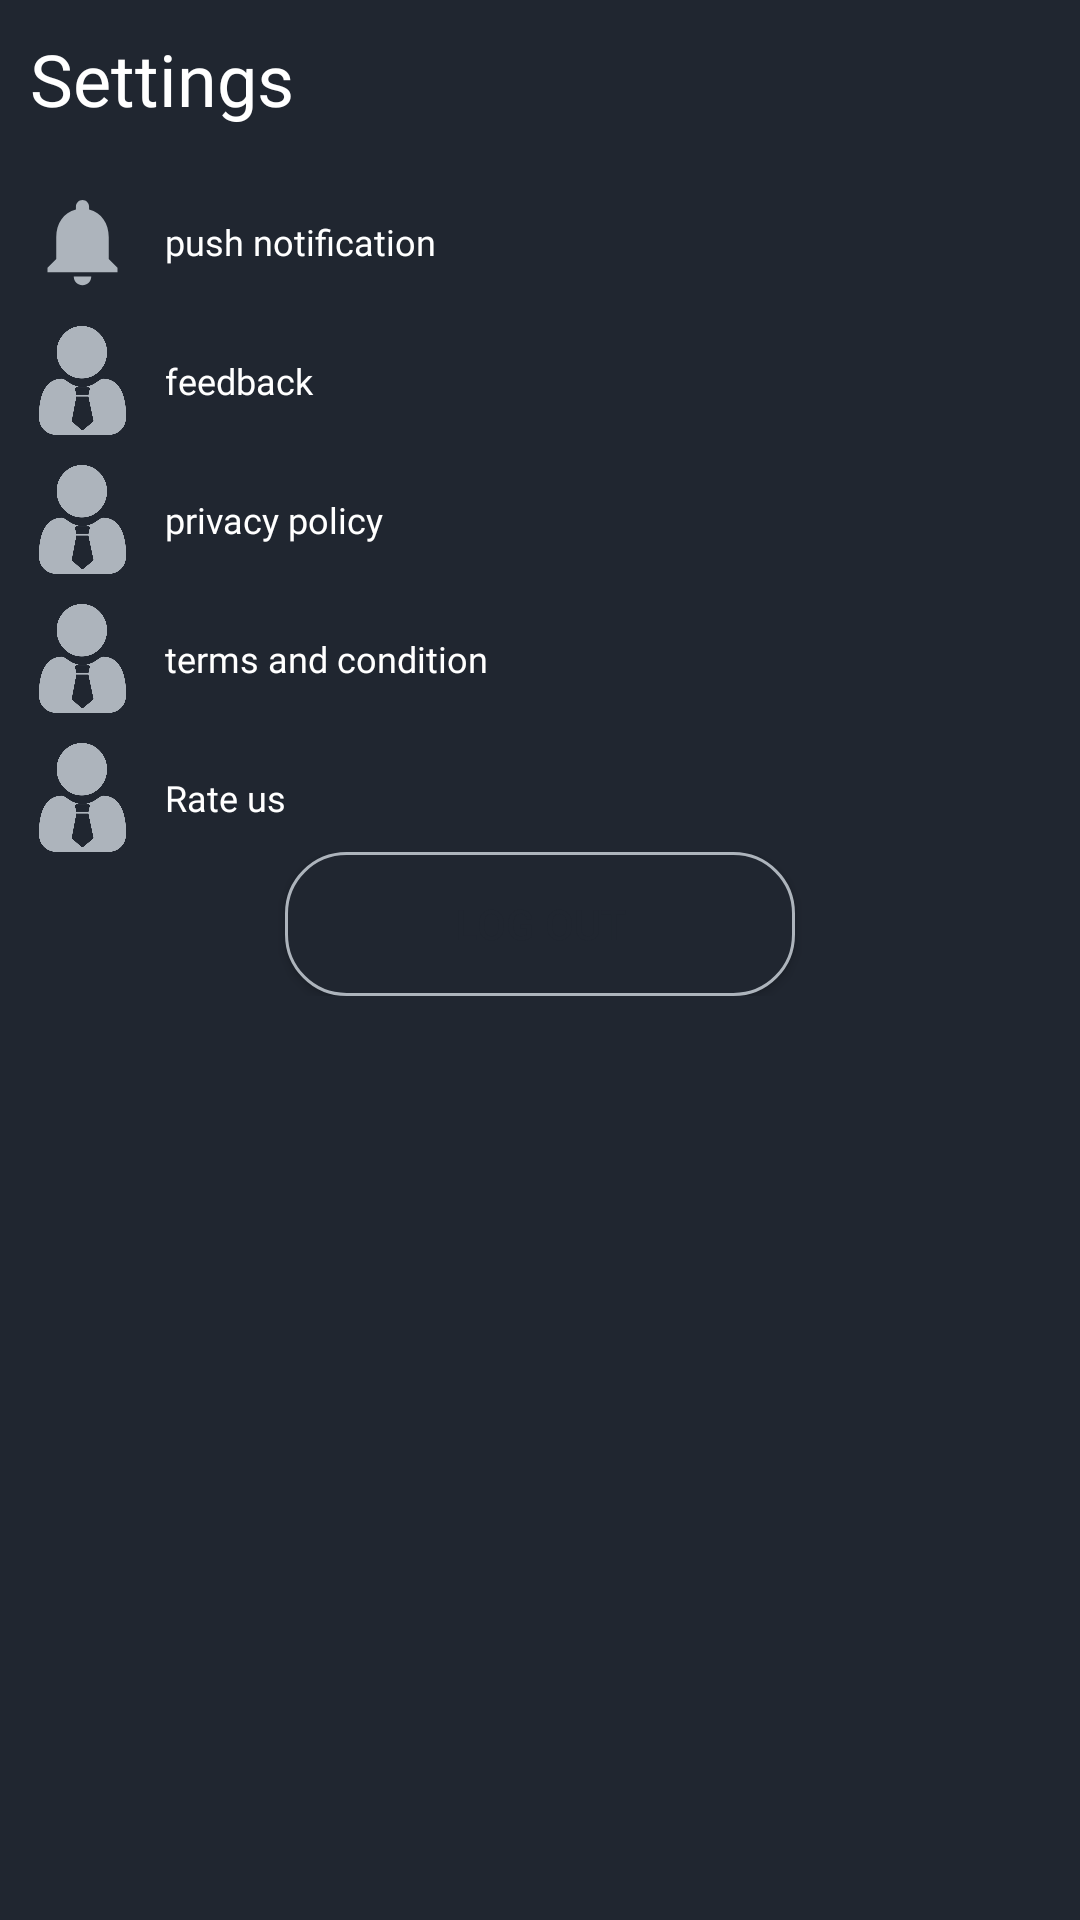

Point at icon controls on the screen. Image size 1080 × 1920, points as point (x, y).
notifications: point (82, 243)
user: point (82, 380), point (82, 519), point (82, 658), point (82, 797)
